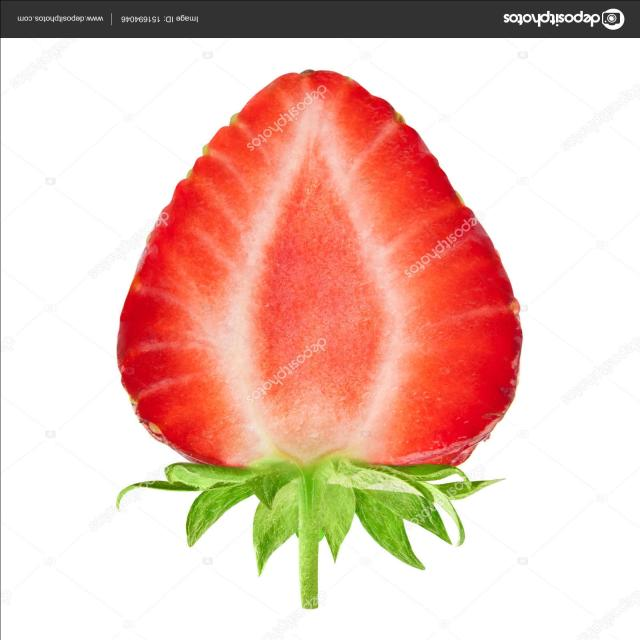strawberry: (90, 55, 552, 592)
